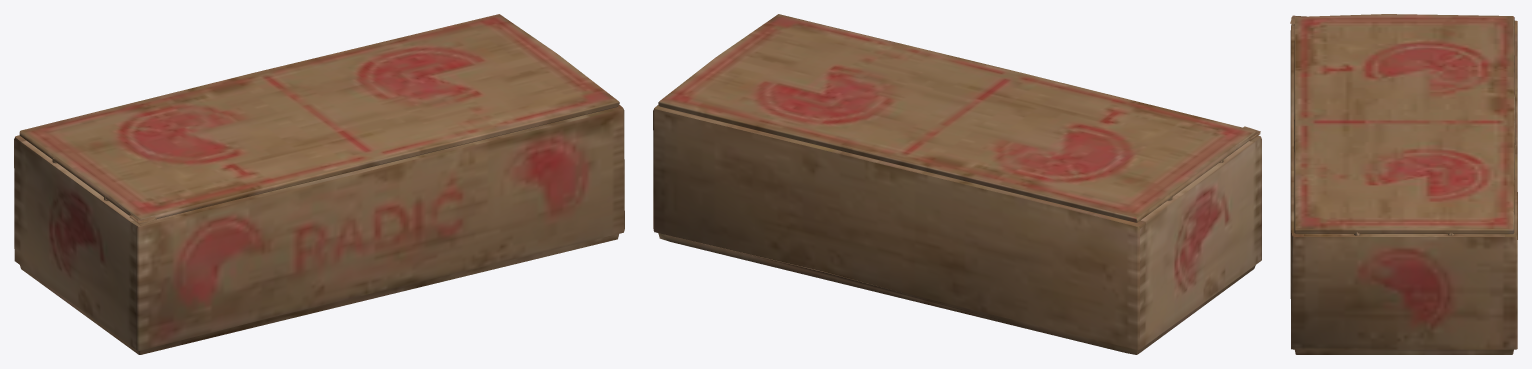
Rendered from crateOpen_lo.glb.
3 views of the same model, side by side, from view 1: azimuth 30°, elevation 25°; view 2: azimuth 150°, elevation 25°; view 3: azimuth 270°, elevation 25° (orthographic). The views are drawn at different scales.
Parts seen in each view (by area): view 1: CheeseBox_01, CheeseBox_01_lid; view 2: CheeseBox_01, CheeseBox_01_lid; view 3: CheeseBox_01_lid, CheeseBox_01.
Boxes of the visible parts, x1,y1,x2,y2 form: CheeseBox_01: [14, 105, 624, 354]; CheeseBox_01_lid: [19, 14, 619, 225]; CheeseBox_01: [653, 105, 1261, 354]; CheeseBox_01_lid: [658, 14, 1260, 222]; CheeseBox_01_lid: [1290, 14, 1515, 234]; CheeseBox_01: [1290, 20, 1517, 354].
Size of the model in its own units: 0.2404 by 0.066 by 0.1065.
Materials: 1 (1 with a texture image).
